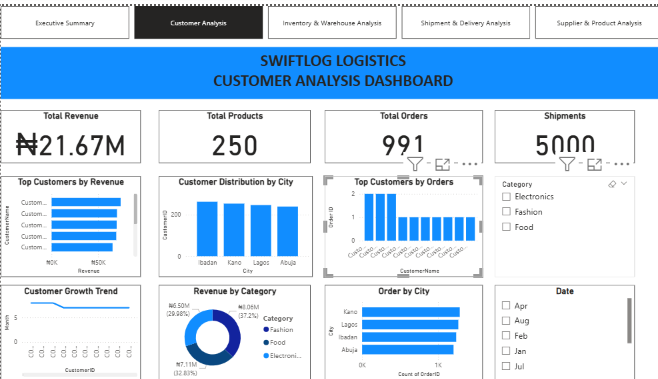

The page's visual inventory and layout, read from the dashboard file:
{"tool":"powerbi","page":{"name":"Customer Analysis ","canvas":[1280,720],"ordinal":1},"visuals":[{"type":"card","title":"Total Revenue","fields":{"Values":["SwiftLog_Customers.Total Revenue"]},"box":[0,200,269.2,101.9],"z":0},{"type":"card","title":"Total Products","fields":{"Values":["SwiftLog_Customers.Total Products"]},"box":[303.8,200,292.3,101.9],"z":1},{"type":"card","title":"Total Orders","fields":{"Values":["SwiftLog_Customers.Customers With Orders"]},"box":[623.1,200,303.8,101.9],"z":2},{"type":"card","title":"Shipments","fields":{"Values":["SwiftLog_Customers.Total Shipments"]},"box":[950,200,269.2,101.9],"z":3},{"type":"textbox","box":[0,78.8,1278.8,100],"z":4},{"type":"barChart","title":"Top Customers by Revenue","fields":{"Category":["SwiftLog_Customers.CustomerName"],"Y":["SwiftLog_Customers.Total Revenue"]},"box":[0,326.9,269.2,194.2],"z":5},{"type":"clusteredColumnChart","title":"Customer Distribution by City","fields":{"Category":["SwiftLog_Customers.City"],"Y":["Count(SwiftLog_Customers.CustomerID)"]},"box":[303.8,326.9,296.2,194.2],"z":6},{"type":"lineChart","title":"Customer Growth Trend","fields":{"Category":["SwiftLog_Customers.CustomerID"],"Y":["Count(SwiftLog_Orders.OrderMonth)"]},"box":[0,536.5,269.2,182.7],"z":7},{"type":"donutChart","title":" Revenue by Category","fields":{"Y":["SwiftLog_Customers.Total Revenue"],"Category":["SwiftLog_Products.Category"]},"box":[303.8,536.5,292.3,182.7],"z":8},{"type":"clusteredColumnChart","title":"Top Customers by Orders","fields":{"Category":["SwiftLog_Customers.CustomerName"],"Y":["Count(SwiftLog_Orders.OrderID)"]},"box":[623.1,326.9,303.8,194.2],"z":9},{"type":"clusteredBarChart","title":"Order by City","fields":{"Category":["SwiftLog_Customers.City"],"Y":["CountNonNull(SwiftLog_Orders.OrderID)"]},"box":[623.1,536.5,303.8,182.7],"z":10},{"type":"slicer","title":"Date","fields":{"Values":["SwiftLog_Orders.OrderMonth"]},"box":[950,536.5,269.2,182.7],"z":12},{"type":"pageNavigator","box":[0,0,1278.8,63.5],"z":13},{"type":"slicer","fields":{"Values":["SwiftLog_Products.Category"]},"box":[950,326.9,269.2,194.2],"z":14}]}

Visuals, with their boxes in screenshot pixels (x1, y1, x2, y2), scaled from the page's 1280x720 canvas onto the 658x379 screenshot:
"Total Revenue" card: 0,105,138,159
"Total Products" card: 156,105,306,159
"Total Orders" card: 320,105,476,159
"Shipments" card: 488,105,627,159
textbox: 0,41,657,94
"Top Customers by Revenue" barChart: 0,172,138,274
"Customer Distribution by City" clusteredColumnChart: 156,172,308,274
"Customer Growth Trend" lineChart: 0,282,138,378
" Revenue by Category" donutChart: 156,282,306,378
"Top Customers by Orders" clusteredColumnChart: 320,172,476,274
"Order by City" clusteredBarChart: 320,282,476,378
"Date" slicer: 488,282,627,378
pageNavigator: 0,0,657,33
slicer - SwiftLog_Products.Category: 488,172,627,274
